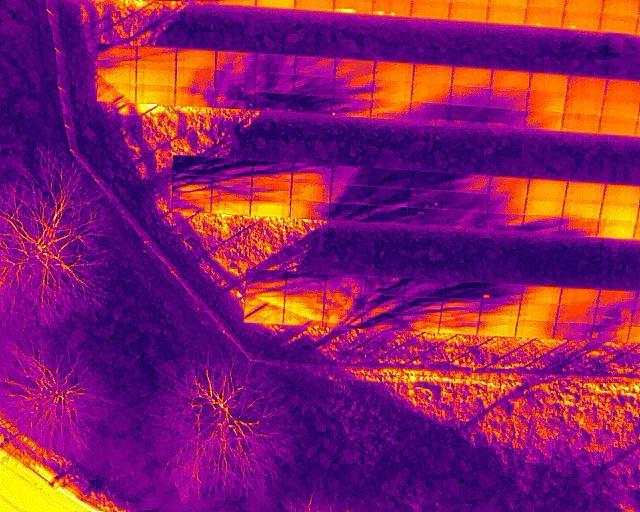Cell: (563, 11, 602, 30), (526, 8, 564, 27)
Cell-Multi: (373, 0, 412, 16)
No-Anomaly: (412, 64, 454, 85), (450, 67, 493, 87), (599, 115, 639, 136), (528, 72, 568, 93), (567, 76, 606, 97), (605, 78, 640, 101), (176, 49, 216, 69), (527, 178, 567, 198), (597, 220, 636, 240), (566, 181, 605, 201), (136, 67, 177, 86), (561, 114, 601, 133), (490, 71, 530, 90), (564, 96, 604, 115), (600, 202, 638, 222), (516, 320, 555, 339), (519, 303, 558, 322), (601, 14, 639, 33), (561, 288, 599, 307), (525, 198, 563, 217), (136, 86, 176, 104), (604, 184, 640, 204), (488, 6, 527, 24), (563, 200, 601, 218), (250, 199, 290, 216), (449, 4, 488, 21), (601, 100, 640, 117), (411, 2, 450, 19)
Shadowing: (369, 99, 412, 123), (322, 290, 366, 313), (321, 307, 365, 330), (325, 272, 368, 295), (447, 172, 490, 195), (243, 303, 286, 326), (400, 294, 443, 316), (447, 105, 488, 128), (373, 60, 415, 82), (211, 159, 253, 181), (487, 88, 529, 110), (360, 294, 404, 315), (446, 191, 488, 213), (284, 274, 326, 296), (243, 287, 286, 308), (367, 168, 410, 189), (332, 97, 373, 119), (295, 56, 336, 78), (215, 51, 257, 72), (407, 171, 449, 192), (367, 186, 409, 207), (400, 312, 442, 333), (407, 188, 449, 209), (406, 207, 448, 228), (329, 184, 369, 206), (255, 54, 296, 75), (334, 58, 375, 79), (525, 91, 566, 112), (333, 78, 374, 99), (211, 177, 252, 198), (367, 204, 408, 225), (172, 175, 213, 196), (245, 272, 286, 293), (213, 71, 256, 91), (282, 291, 327, 310), (409, 103, 449, 124), (290, 183, 332, 203), (556, 304, 596, 325), (291, 164, 333, 184), (447, 209, 487, 230), (283, 307, 325, 327), (525, 111, 563, 133), (136, 48, 177, 68), (252, 163, 293, 183), (328, 204, 369, 224), (521, 285, 562, 305), (449, 87, 492, 106), (486, 108, 526, 128), (255, 72, 297, 91), (371, 81, 413, 100), (410, 85, 452, 104), (360, 312, 402, 331), (293, 96, 332, 116), (485, 213, 524, 233), (591, 323, 630, 343), (331, 166, 370, 186), (254, 93, 295, 112), (438, 316, 479, 335), (96, 83, 136, 102), (175, 87, 215, 106), (96, 48, 136, 67), (294, 77, 334, 96), (174, 156, 212, 176), (560, 217, 598, 237), (290, 200, 330, 219), (250, 182, 292, 200), (554, 322, 593, 341), (597, 289, 636, 308), (523, 215, 560, 235), (213, 90, 254, 108), (479, 302, 520, 320), (440, 300, 481, 318), (175, 69, 215, 87), (489, 178, 529, 196), (486, 196, 526, 214), (596, 307, 634, 325), (96, 66, 136, 83), (171, 195, 211, 212), (211, 196, 251, 213), (478, 318, 518, 335)
